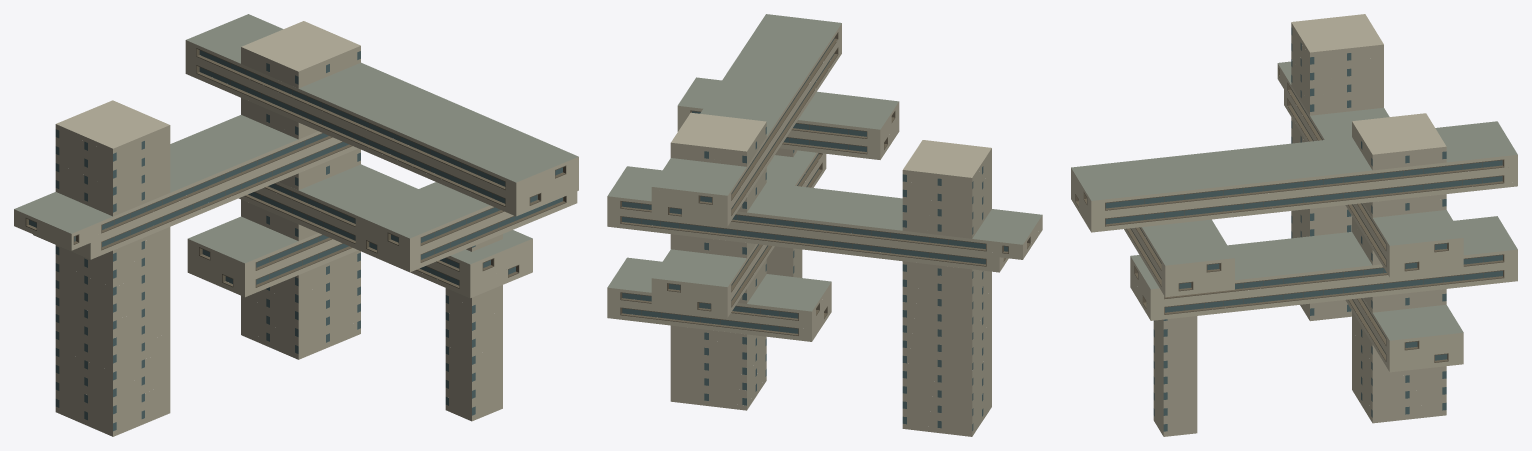
The model's file is bank-of-georgia-hq-far.glb.
3 renders of one model, left to right at view 1: azimuth 30°, elevation 25°; view 2: azimuth 150°, elevation 25°; view 3: azimuth 270°, elevation 25°, orthographic. The views are drawn at different scales.
Visible parts, largest first — view 1: bank-of-georgia-hq-0-core, bank-of-georgia-hq-0-roof, bank-of-georgia-hq-0-concrete, bank-of-georgia-hq-0-glass, bank-of-georgia-hq-0-reveal; view 2: bank-of-georgia-hq-0-core, bank-of-georgia-hq-0-roof, bank-of-georgia-hq-0-concrete, bank-of-georgia-hq-0-glass, bank-of-georgia-hq-0-reveal; view 3: bank-of-georgia-hq-0-roof, bank-of-georgia-hq-0-core, bank-of-georgia-hq-0-concrete, bank-of-georgia-hq-0-glass, bank-of-georgia-hq-0-reveal.
Part boxes in pixels (<box>): bank-of-georgia-hq-0-core: <box>55,21,502,436</box>; bank-of-georgia-hq-0-roof: <box>14,14,578,264</box>; bank-of-georgia-hq-0-concrete: <box>14,40,578,298</box>; bank-of-georgia-hq-0-glass: <box>29,50,562,431</box>; bank-of-georgia-hq-0-reveal: <box>25,48,566,288</box>; bank-of-georgia-hq-0-core: <box>670,112,991,436</box>; bank-of-georgia-hq-0-roof: <box>607,14,1042,311</box>; bank-of-georgia-hq-0-concrete: <box>607,23,1042,341</box>; bank-of-georgia-hq-0-glass: <box>622,38,1008,430</box>; bank-of-georgia-hq-0-reveal: <box>620,32,1030,335</box>; bank-of-georgia-hq-0-roof: <box>1071,61,1517,340</box>; bank-of-georgia-hq-0-core: <box>1153,14,1446,436</box>; bank-of-georgia-hq-0-concrete: <box>1071,63,1517,372</box>; bank-of-georgia-hq-0-glass: <box>1105,27,1502,431</box>; bank-of-georgia-hq-0-reveal: <box>1075,68,1504,362</box>.
Bounding box in the file's own units: 85.83 × 51 × 76.9.
